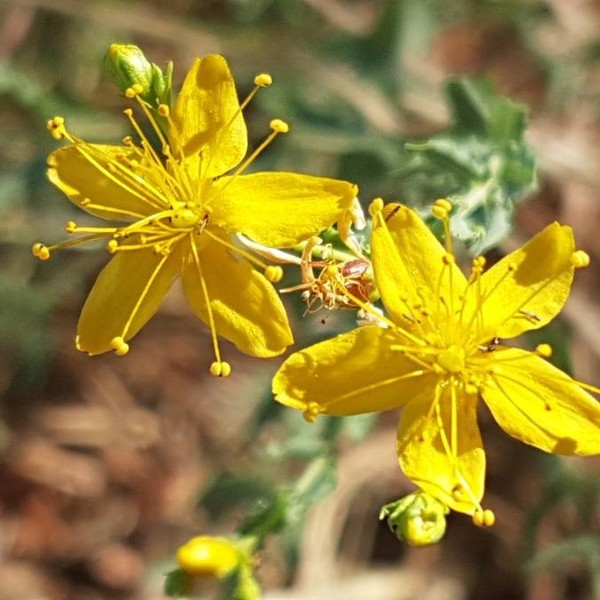obstacle: (289, 187, 588, 545), (3, 38, 315, 369)
